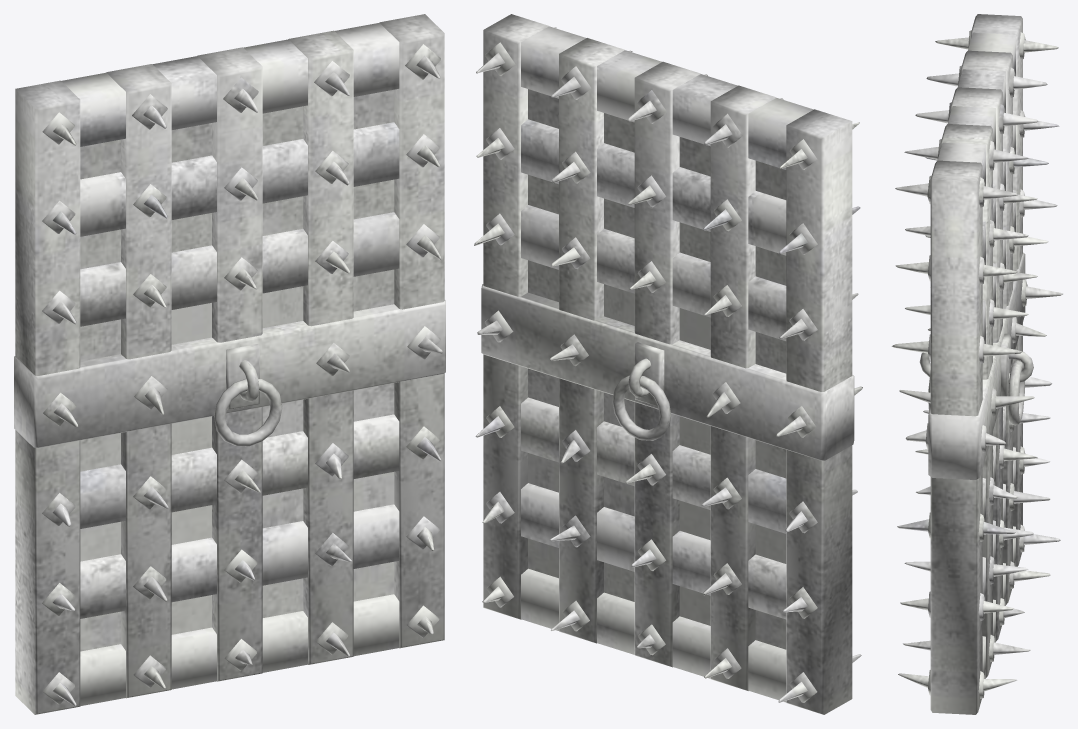
Rendered from spiked_door_toilet.fbx.
The picture shows the model from 3 angles, left to right: view 1: azimuth 30°, elevation 25°; view 2: azimuth 150°, elevation 25°; view 3: azimuth 270°, elevation 25°; orthographic projection. The views are drawn at different scales.
Parts seen in each view (by area): view 1: spiked_toilet_door; view 2: spiked_toilet_door; view 3: spiked_toilet_door.
Part boxes in pixels (x1,y1,x2,y2): spiked_toilet_door: [14, 14, 445, 714]; spiked_toilet_door: [474, 14, 862, 714]; spiked_toilet_door: [891, 14, 1062, 714].
Size of the model in its own units: 2.18 by 3.24 by 0.9467.
